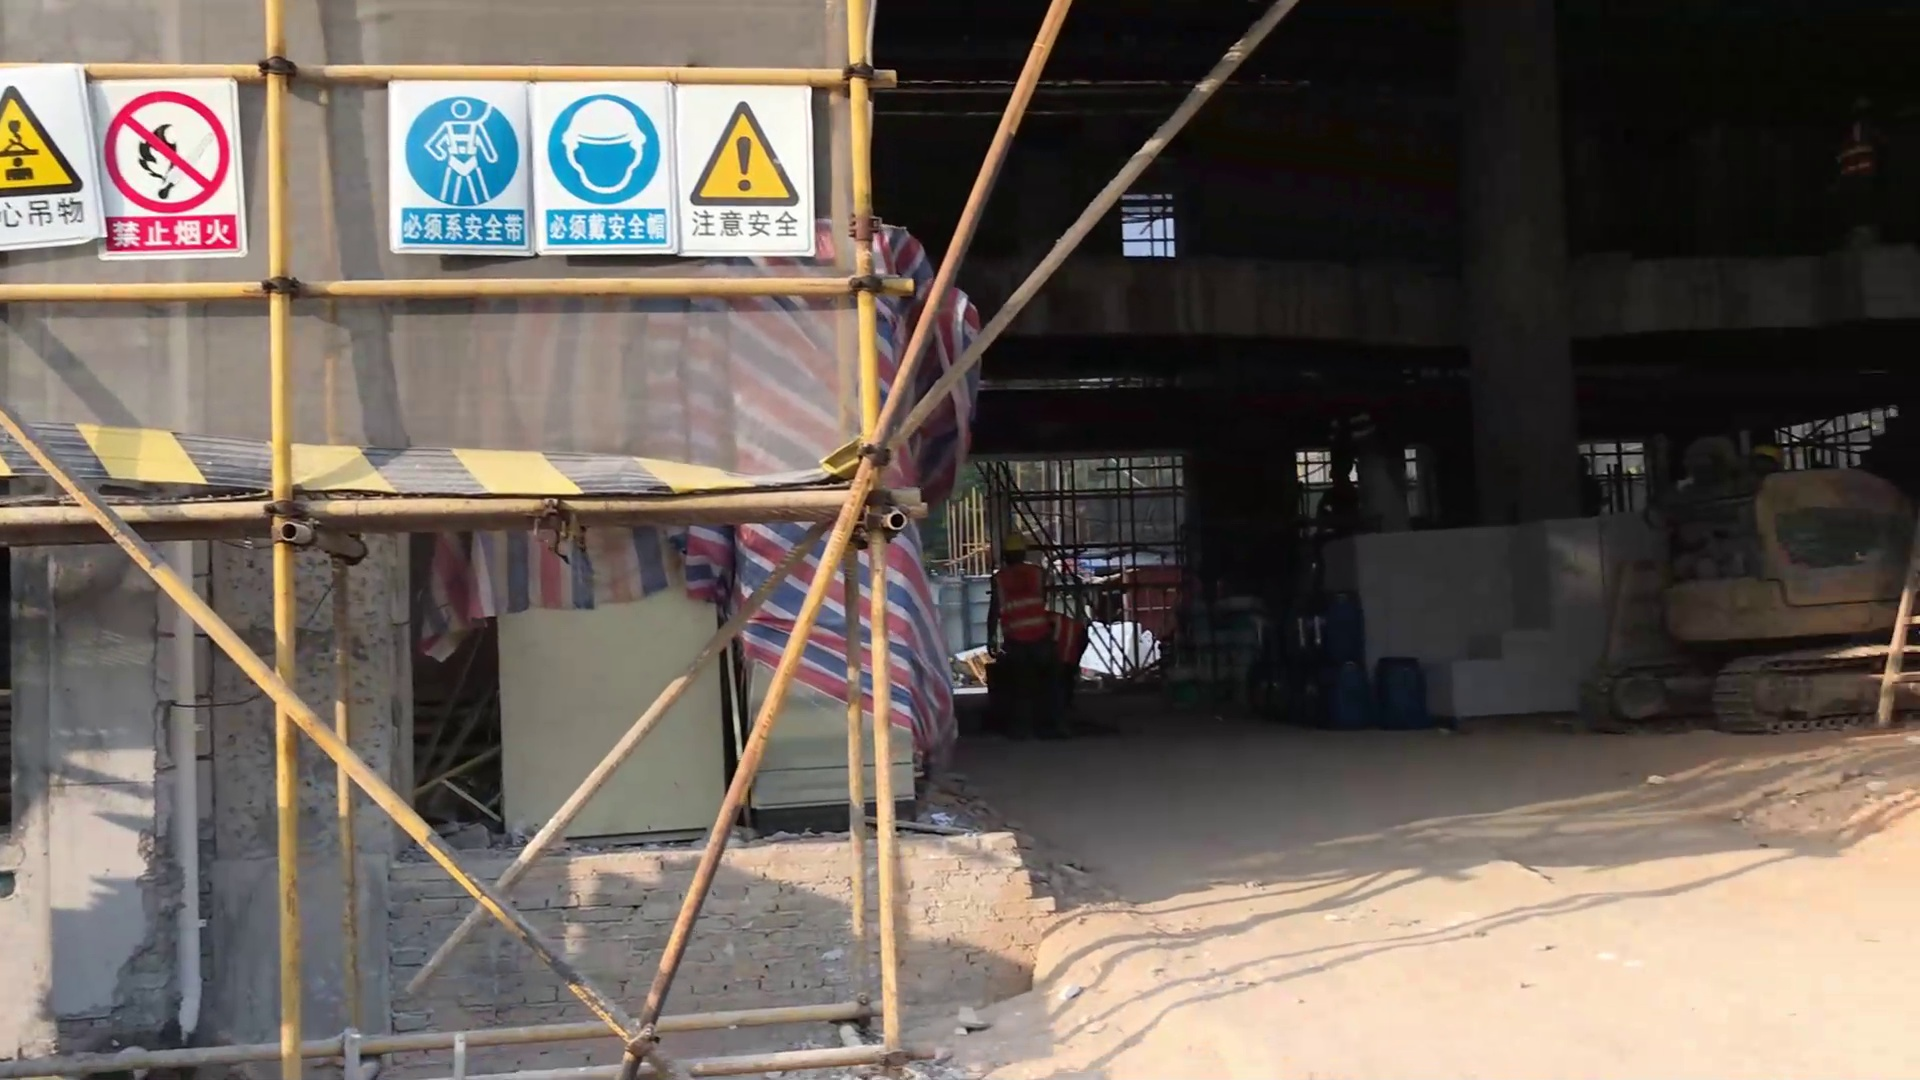brick: (1322, 515, 1607, 720)
helmet: (1750, 438, 1783, 466), (998, 532, 1028, 557)
person: (984, 533, 1068, 744)
slogan: (388, 79, 816, 257), (1, 67, 253, 261)
vest: (991, 561, 1053, 646), (1043, 606, 1084, 668), (1837, 118, 1875, 180)
